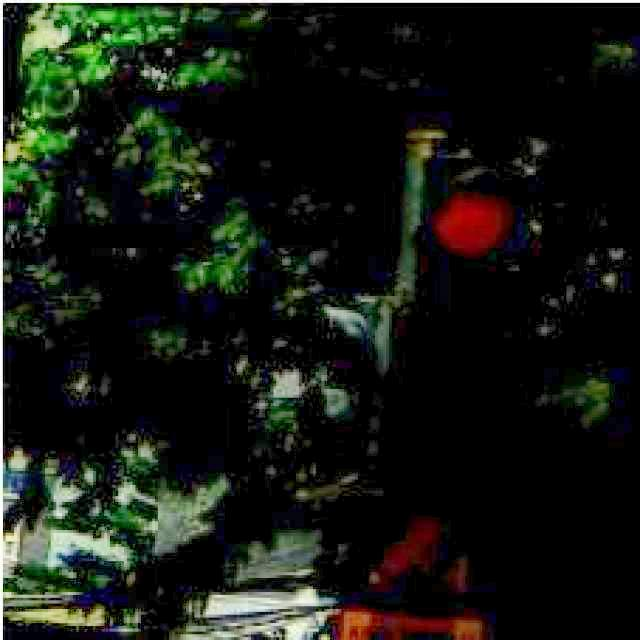red: (408, 170, 514, 458)
